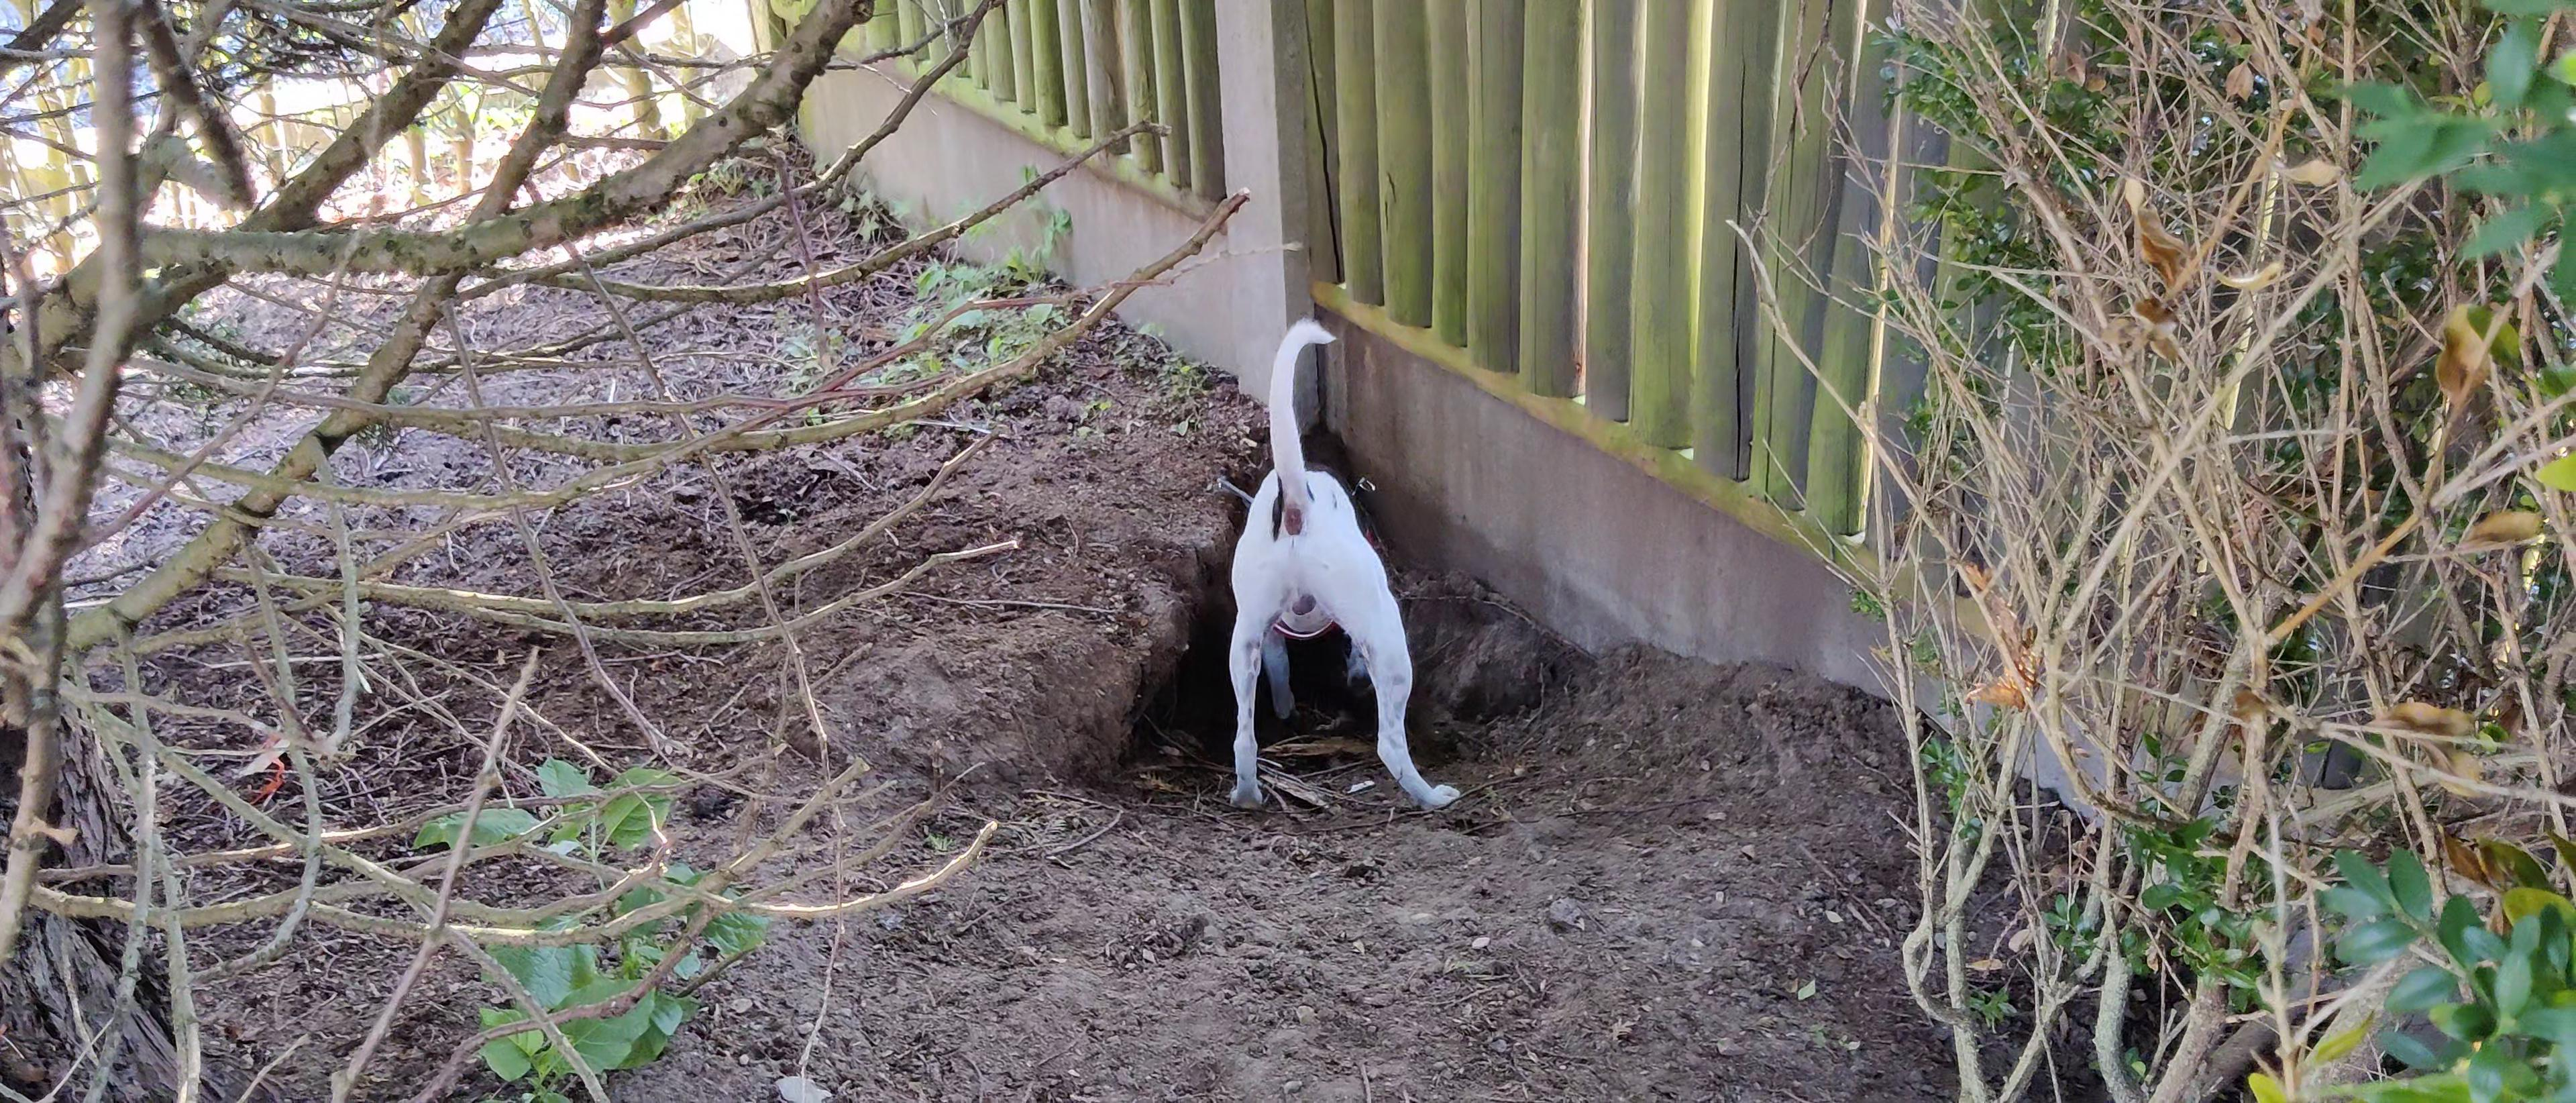Dog: (1155, 281, 1488, 827)
